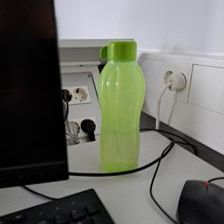bottle: (96, 36, 145, 175)
